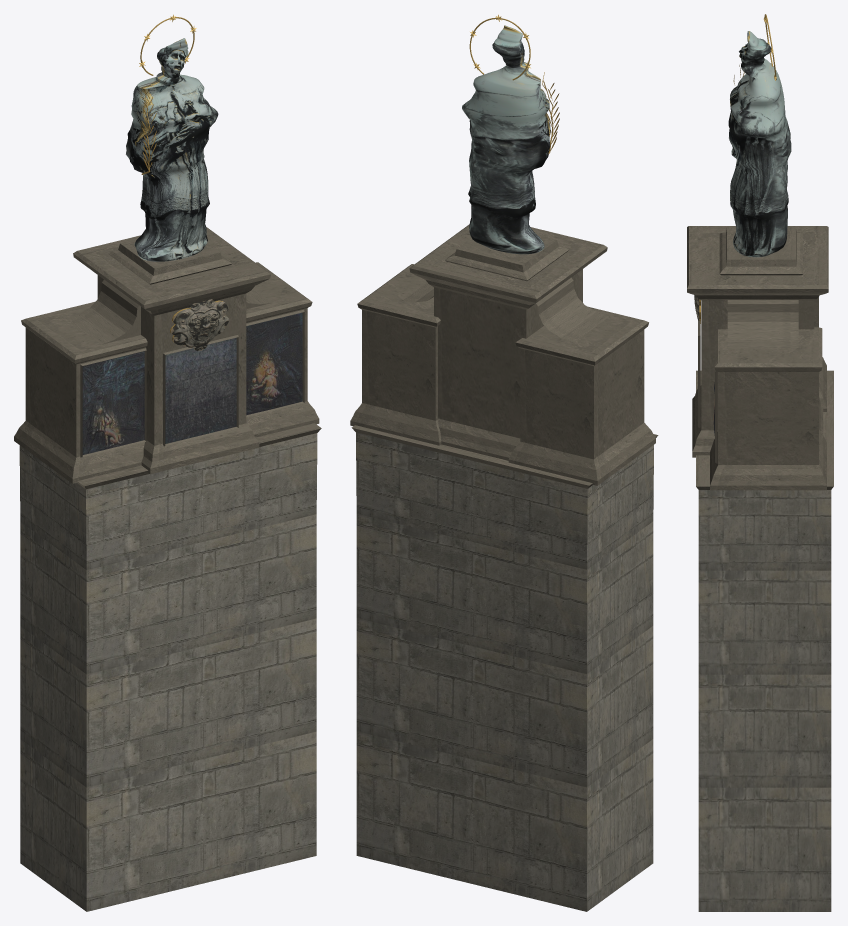
Rendered from street-nepomuk.glb.
The picture shows the model from 3 angles, left to right: view 1: azimuth 30°, elevation 25°; view 2: azimuth 150°, elevation 25°; view 3: azimuth 270°, elevation 25°; orthographic projection.
Parts seen in each view (by area): view 1: Cast figure in a biretta and lace rochet; view 2: Cast figure in a biretta and lace rochet; view 3: Cast figure in a biretta and lace rochet.
Boxes of the visible parts, x1=… form: Cast figure in a biretta and lace rochet: x1=14, y1=14, x2=321, y2=911; Cast figure in a biretta and lace rochet: x1=350, y1=14, x2=658, y2=911; Cast figure in a biretta and lace rochet: x1=687, y1=14, x2=833, y2=911.
Bounding box in the file's own units: 3.22 × 10.52 × 1.66.
Materials: 1 (1 with a texture image).
